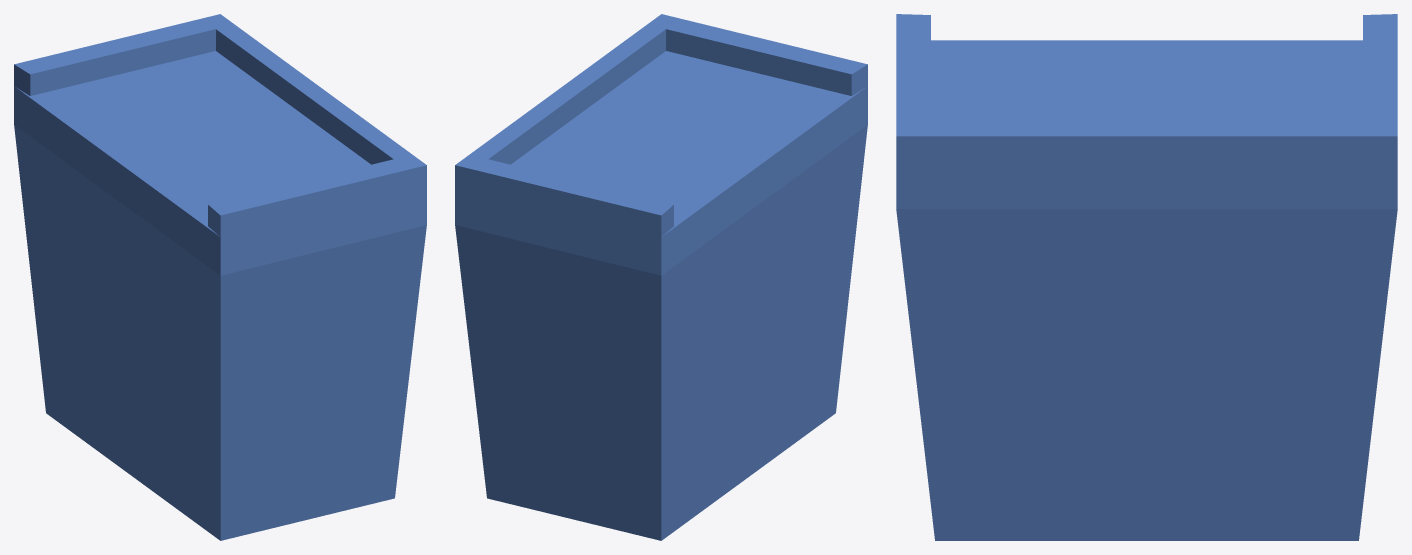
Rendered from BoxBin.dae.
3 views of the same model, side by side, from view 1: azimuth 30°, elevation 25°; view 2: azimuth 150°, elevation 25°; view 3: azimuth 270°, elevation 25° (orthographic). The views are drawn at different scales.
Parts seen in each view (by area): view 1: Cube; view 2: Cube; view 3: Cube.
Part boxes in pixels (left/top/right/bottom): Cube: left=14, top=14, right=426, bottom=540; Cube: left=455, top=14, right=867, bottom=540; Cube: left=896, top=14, right=1397, bottom=540.
Size of the model in its own units: 0.4941 by 0.8565 by 0.7804.
